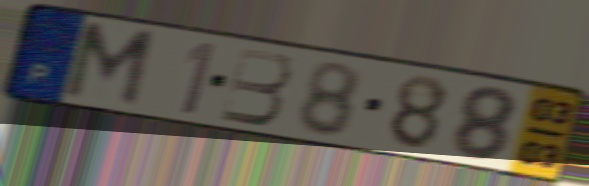1: (179, 40, 218, 117)
8: (446, 84, 521, 163), (294, 59, 363, 140), (387, 74, 450, 152)
B: (216, 45, 295, 128)
M: (58, 19, 161, 112)
